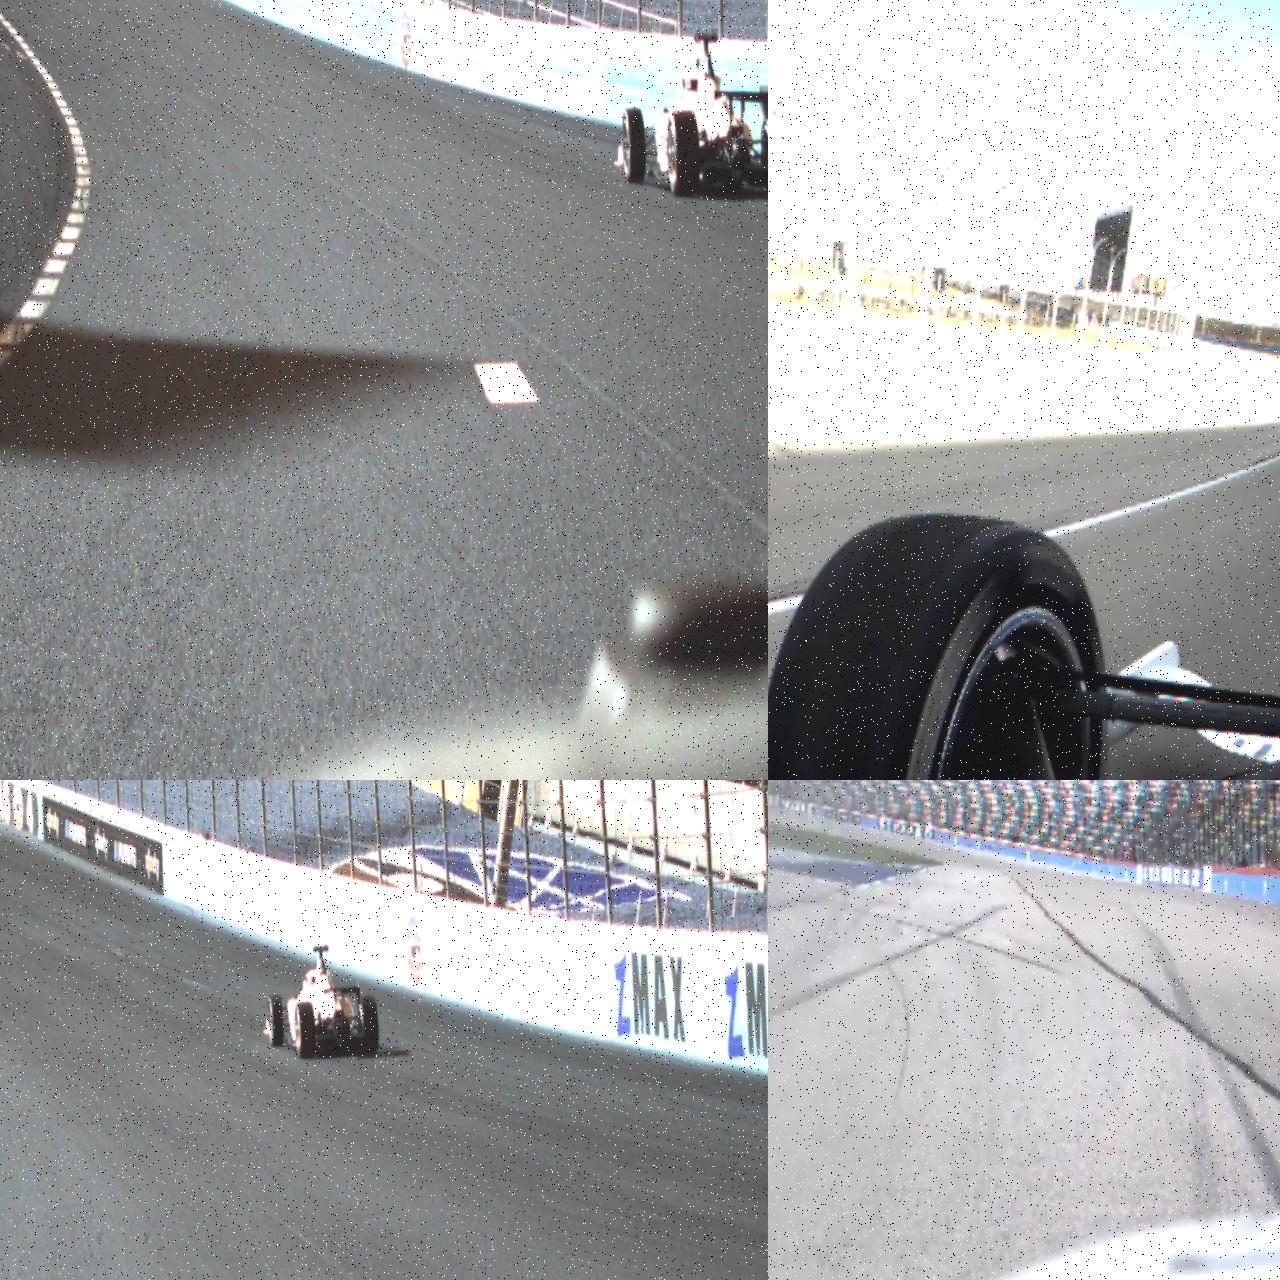AV: (610, 23, 768, 204), (259, 942, 380, 1060)
Wheel: (768, 506, 1121, 779), (665, 109, 700, 196), (620, 107, 647, 183), (356, 995, 380, 1056), (293, 1001, 315, 1058), (266, 994, 284, 1046), (760, 107, 768, 198)
